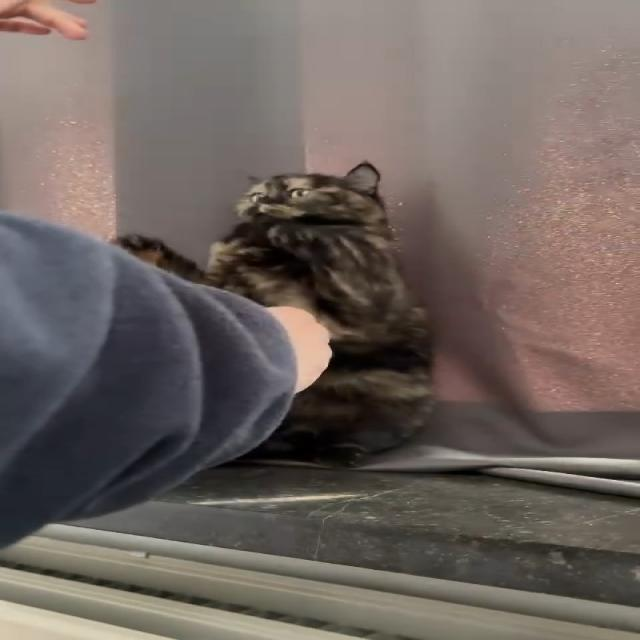authorized: (111, 160, 437, 467)
